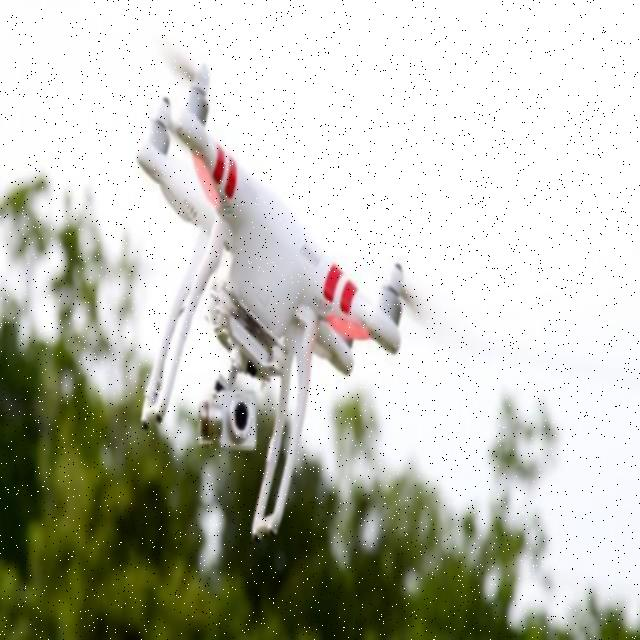UAV: (137, 60, 411, 542)
